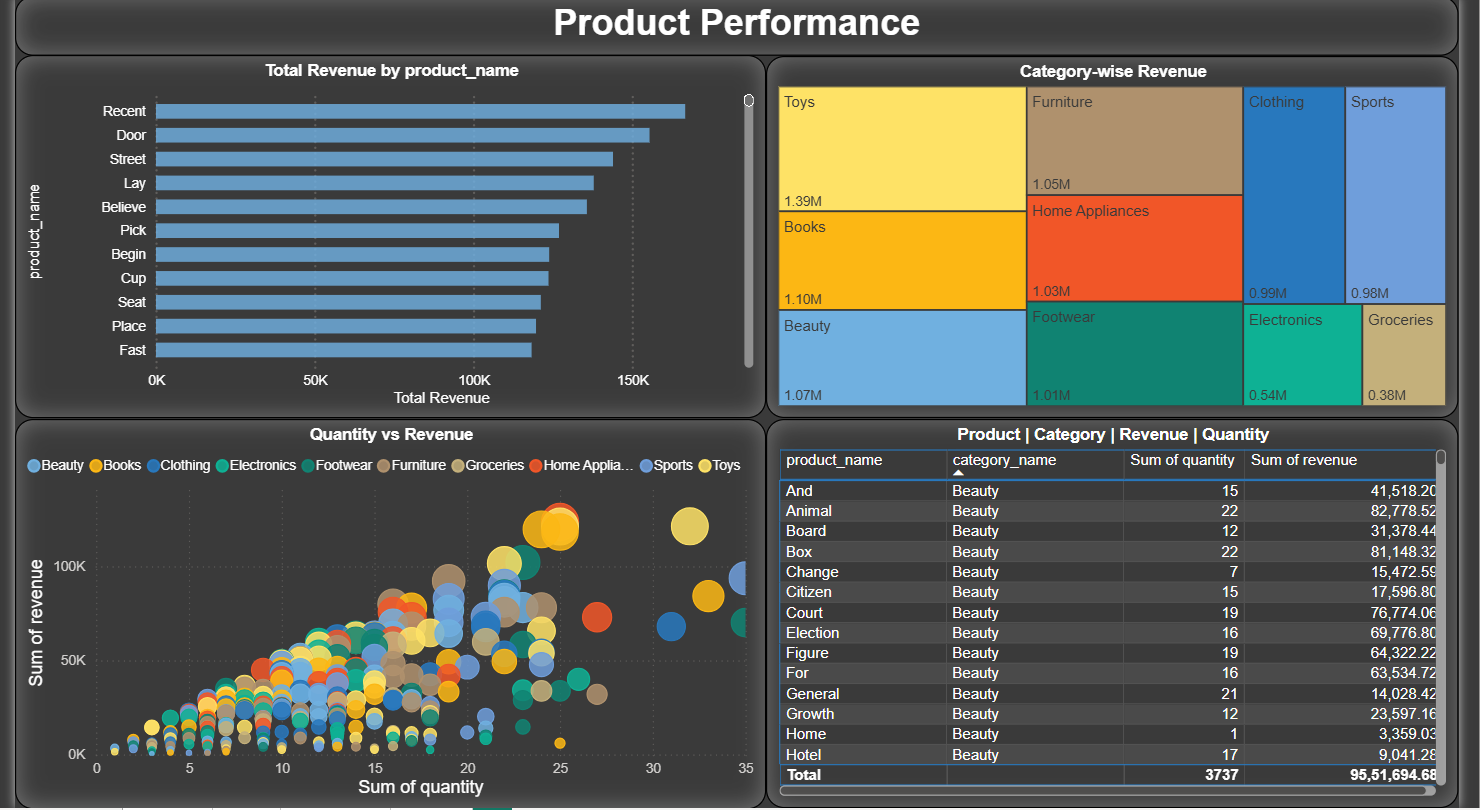

What the dashboard file says about the page in this screenshot:
{"tool":"powerbi","page":{"name":"Performance","canvas":[1280,720],"ordinal":2},"visuals":[{"type":"clusteredBarChart","fields":{"Y":["sales_etl1 customers.Total Revenue"],"Category":["sales_etl1 vw_sales_fact.product_name"]},"box":[0,52.5,665.8,322.3],"z":0},{"type":"treemap","title":"Category-wise Revenue","fields":{"Group":["sales_etl1 vw_sales_fact.category_name"],"Values":["sales_etl1 customers.Total Revenue"]},"box":[666.1,53,614.1,321.4],"z":1000},{"type":"scatterChart","title":"Quantity vs Revenue","fields":{"X":["Sum(sales_etl1 vw_sales_fact.quantity)"],"Y":["Sum(sales_etl1 vw_sales_fact.revenue)"],"Category":["sales_etl1 vw_sales_fact.product_name"],"Size":["Sum(sales_etl1 vw_sales_fact.revenue)"],"Series":["sales_etl1 vw_sales_fact.category_name"]},"box":[0,374.8,665.8,345.5],"z":2000},{"type":"tableEx","title":"Product | Category | Revenue | Quantity","fields":{"Values":["sales_etl1 vw_sales_fact.product_name","sales_etl1 vw_sales_fact.category_name","Sum(sales_etl1 vw_sales_fact.quantity)","Sum(sales_etl1 vw_sales_fact.revenue)"]},"box":[666.1,375.3,614.1,344.7],"z":3000},{"type":"textbox","box":[0,0,1280,52.5],"z":4000}]}

Visuals, with their boxes in screenshot pixels (x1, y1, x2, y2), scaled from the page's 1280x720 canvas onto the 1480x810 screenshot:
clusteredBarChart - sales_etl1 customers.Total Revenue x sales_etl1 vw_sales_fact.product_name: box=[0, 59, 770, 422]
"Category-wise Revenue" treemap: box=[770, 60, 1479, 421]
"Quantity vs Revenue" scatterChart: box=[0, 422, 770, 809]
"Product | Category | Revenue | Quantity" tableEx: box=[770, 422, 1479, 809]
textbox: box=[0, 0, 1479, 59]
